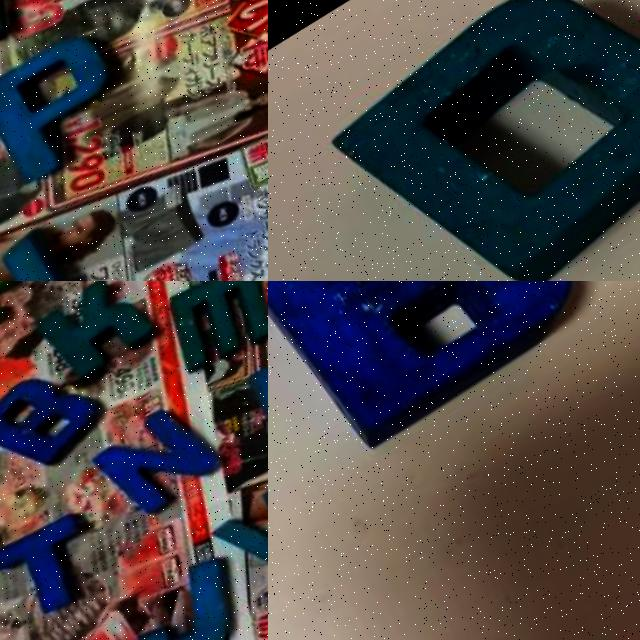B: (268, 281, 599, 472), (0, 336, 115, 497)
D: (316, 0, 640, 281)
F: (0, 281, 40, 368)
J: (108, 526, 261, 640)
K: (34, 281, 152, 382)
M: (159, 281, 268, 367)
N: (88, 376, 231, 522)
P: (0, 4, 139, 179), (235, 304, 268, 439)
T: (0, 487, 118, 622)
V: (0, 203, 113, 281), (208, 452, 268, 592)
